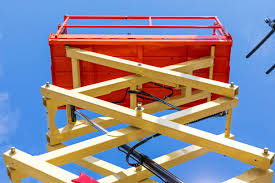Scissor Lift: (4, 14, 272, 183)
